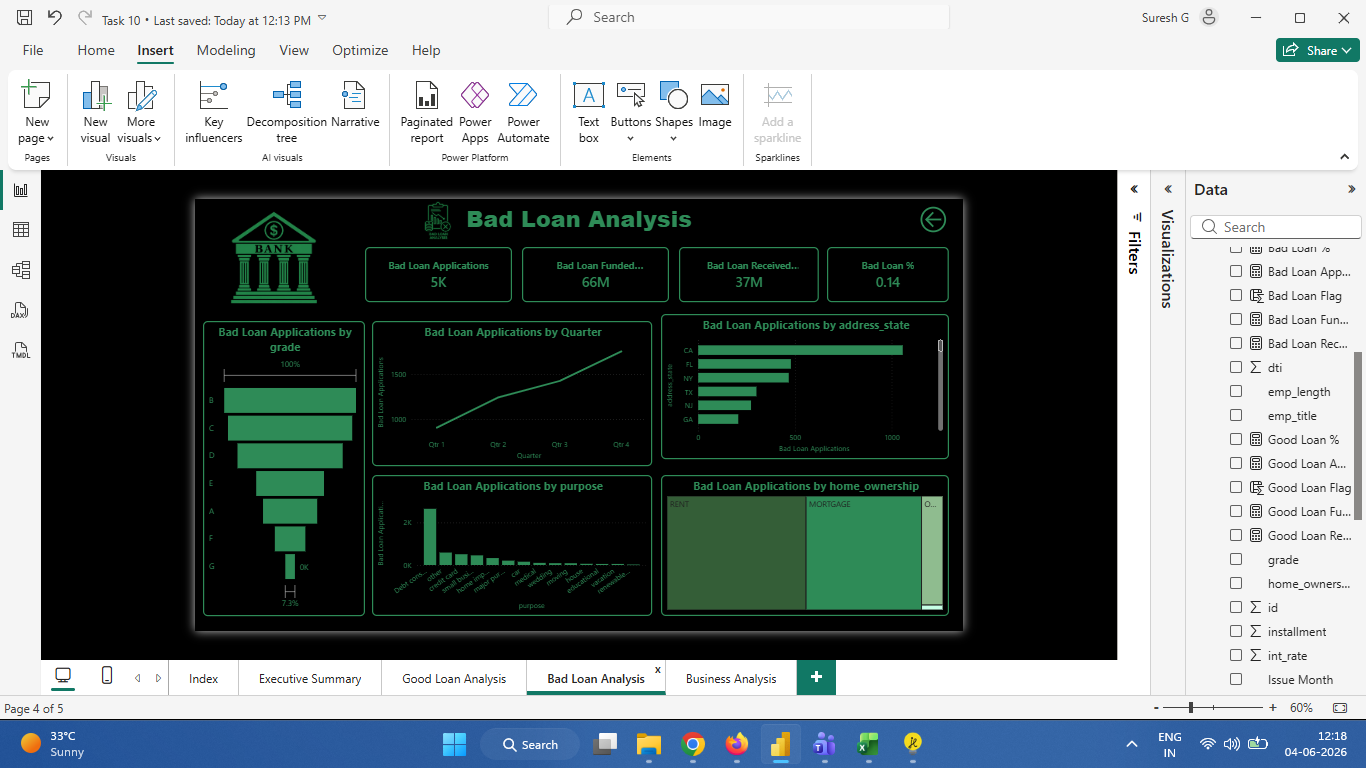

The dashboard page shown, as its layout file describes it:
{"tool":"powerbi","page":{"name":"Bad Loan Analysis","canvas":[1280,720],"ordinal":3},"visuals":[{"type":"textbox","box":[0,0,1280,71.7],"z":0},{"type":"image","box":[0,0,263.3,203.3],"z":1},{"type":"image","box":[365,0,80,71.7],"z":2},{"type":"cardVisual","fields":{"Data":["financial_loan.Bad Loan Applications"]},"box":[283.3,80,245,91.7],"z":3},{"type":"cardVisual","fields":{"Data":["financial_loan.Bad Loan Funded Amount"]},"box":[545,80,245,91.7],"z":4},{"type":"cardVisual","fields":{"Data":["financial_loan.Bad Loan Received Amount"]},"box":[806.7,80,233.3,91.7],"z":5},{"type":"cardVisual","fields":{"Data":["financial_loan.Bad Loan %"]},"box":[1053.3,80,203.3,91.7],"z":6},{"type":"lineChart","fields":{"Category":["financial_loan.issue_date.Variation.Date Hierarchy.Year","financial_loan.issue_date.Variation.Date Hierarchy.Quarter","financial_loan.issue_date.Variation.Date Hierarchy.Month","financial_loan.issue_date.Variation.Date Hierarchy.Day"],"Y":["financial_loan.Bad Loan Applications"]},"box":[295,203.3,466.7,241.7],"z":7},{"type":"clusteredBarChart","fields":{"Y":["financial_loan.Bad Loan Applications"],"Category":["financial_loan.address_state"]},"box":[776.7,191.7,480,241.7],"z":8},{"type":"clusteredColumnChart","fields":{"Category":["financial_loan.purpose"],"Y":["financial_loan.Bad Loan Applications"]},"box":[295,460,466.7,235],"z":9},{"type":"treemap","fields":{"Group":["financial_loan.home_ownership"],"Values":["financial_loan.Bad Loan Applications"]},"box":[776.7,460,480,235],"z":10},{"type":"funnel","fields":{"Category":["financial_loan.grade"],"Y":["financial_loan.Bad Loan Applications"]},"box":[13.3,203.3,270,491.7],"z":11},{"type":"actionButton","box":[1180,6.7,100,55],"z":12}]}

Visuals, with their boxes on the page's 1280x720 design canvas (x1, y1, x2, y2). These are canvas units, not pixel positions in the 1366x768 screenshot, which may show the page scaled, cropped or inside an application window:
textbox: <region>0, 0, 1280, 72</region>
image: <region>0, 0, 263, 203</region>
image: <region>365, 0, 445, 72</region>
cardVisual - financial_loan.Bad Loan Applications: <region>283, 80, 528, 172</region>
cardVisual - financial_loan.Bad Loan Funded Amount: <region>545, 80, 790, 172</region>
cardVisual - financial_loan.Bad Loan Received Amount: <region>807, 80, 1040, 172</region>
cardVisual - financial_loan.Bad Loan %: <region>1053, 80, 1257, 172</region>
lineChart - financial_loan.issue_date.Variation.Date Hierarchy.Year x financial_loan.issue_date.Variation.Date Hierarchy.Quarter: <region>295, 203, 762, 445</region>
clusteredBarChart - financial_loan.Bad Loan Applications x financial_loan.address_state: <region>777, 192, 1257, 433</region>
clusteredColumnChart - financial_loan.purpose x financial_loan.Bad Loan Applications: <region>295, 460, 762, 695</region>
treemap - financial_loan.home_ownership x financial_loan.Bad Loan Applications: <region>777, 460, 1257, 695</region>
funnel - financial_loan.grade x financial_loan.Bad Loan Applications: <region>13, 203, 283, 695</region>
actionButton: <region>1180, 7, 1280, 62</region>
